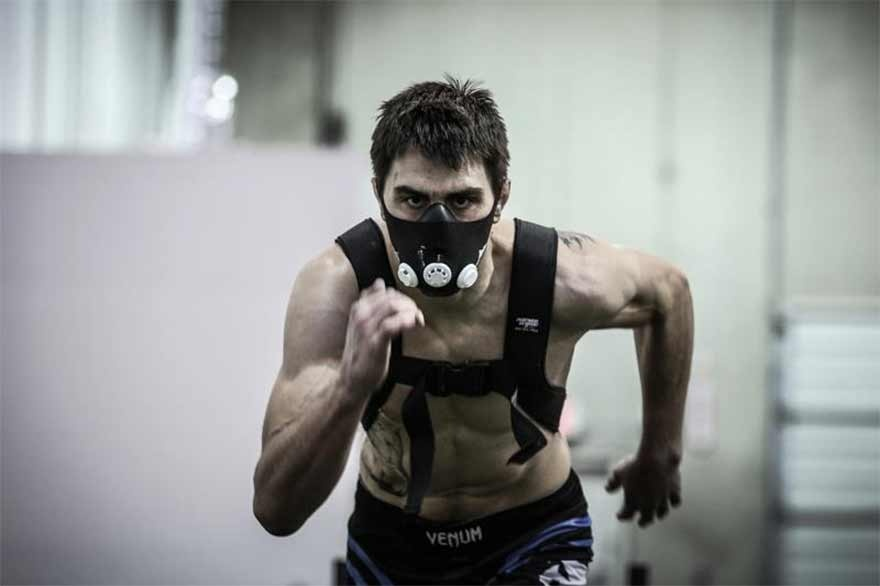with_mask: (371, 112, 502, 299)
